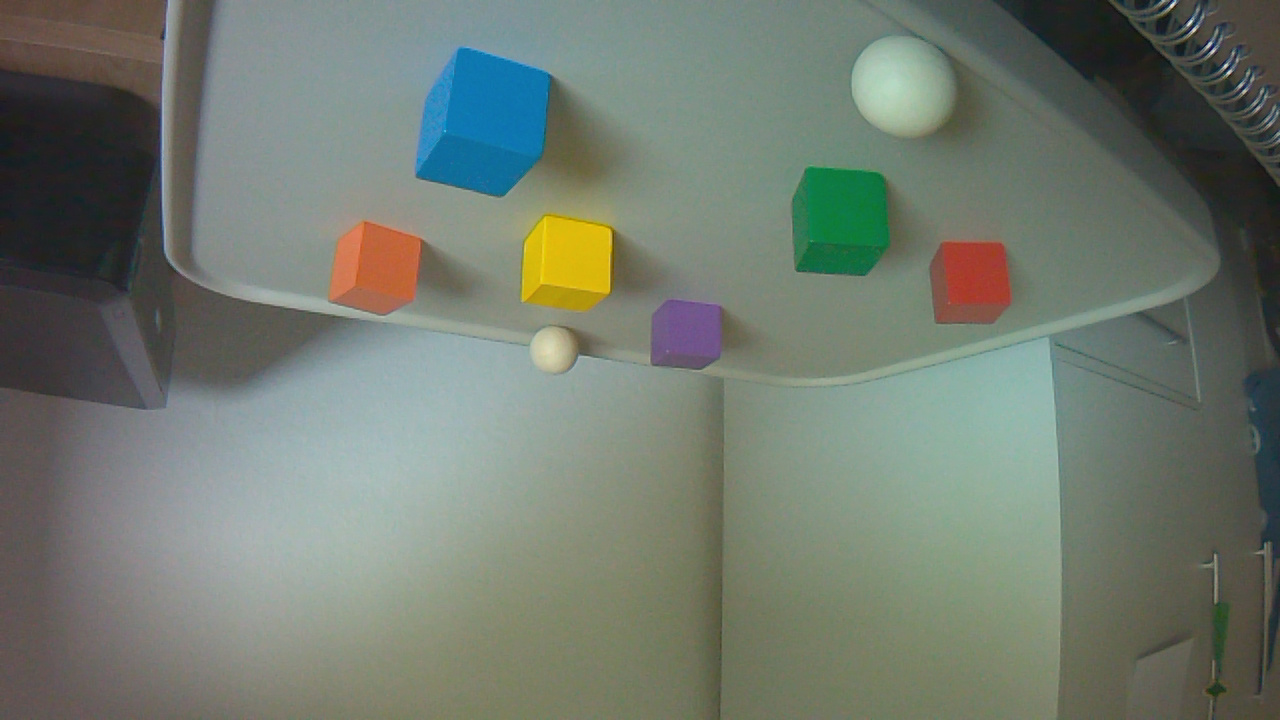ball: (852, 35, 965, 147), (534, 330, 587, 383)
cube_blue: (418, 52, 558, 206)
cube_green: (793, 169, 898, 285)
cube_orange: (331, 224, 430, 323)
cube_purple: (653, 304, 732, 377)
cube_red: (931, 243, 1020, 333)
cube_yellow: (522, 218, 621, 321)
